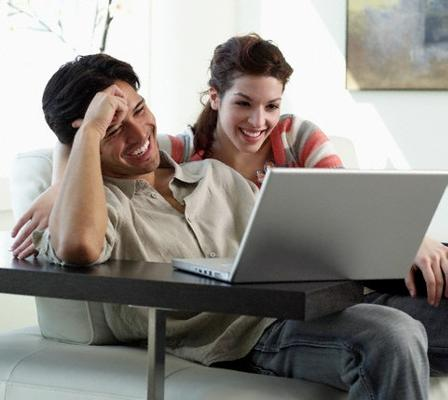person: (36, 54, 448, 400)
